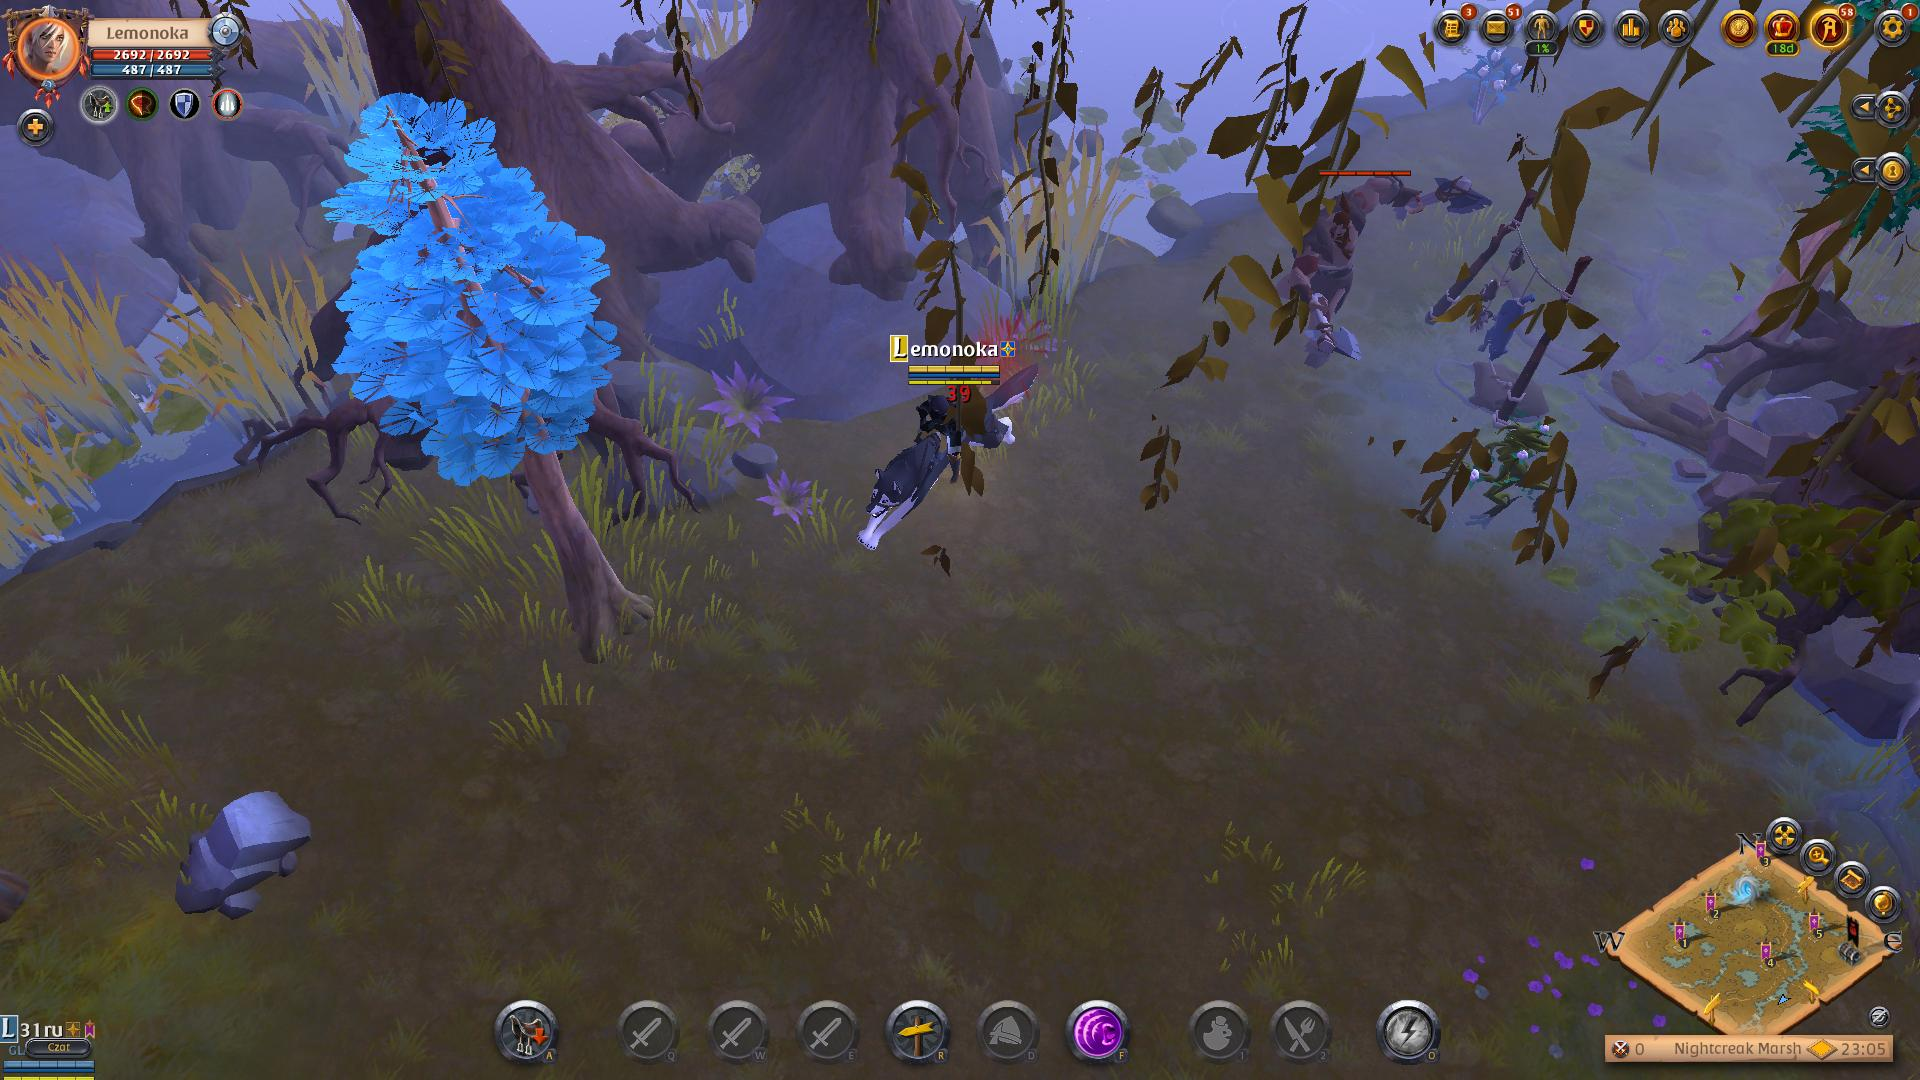rock tier 1: (171, 785, 320, 930)
wood tier 4: (322, 87, 626, 495)
